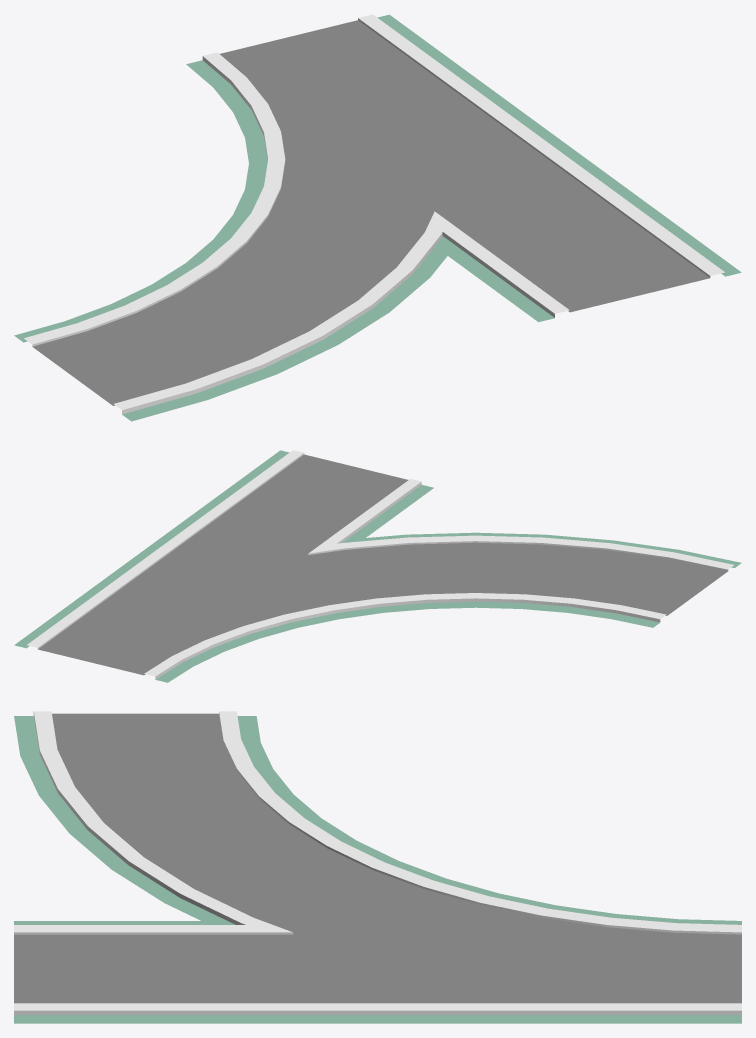
The model's file is roadSplitLarger.glb.
3 renders of one model, top to bottom at view 1: azimuth 30°, elevation 25°; view 2: azimuth 150°, elevation 25°; view 3: azimuth 270°, elevation 25°, orthographic. The views are drawn at different scales.
Parts seen in each view (by area): view 1: roadSplitLarger; view 2: roadSplitLarger; view 3: roadSplitLarger.
Part boxes in pixels (x1,y1,x2,y2): roadSplitLarger: (14,14,741,421); roadSplitLarger: (14,450,741,682); roadSplitLarger: (14,711,741,1023).
Bounding box in the file's own units: 3 × 0.02 × 3.
